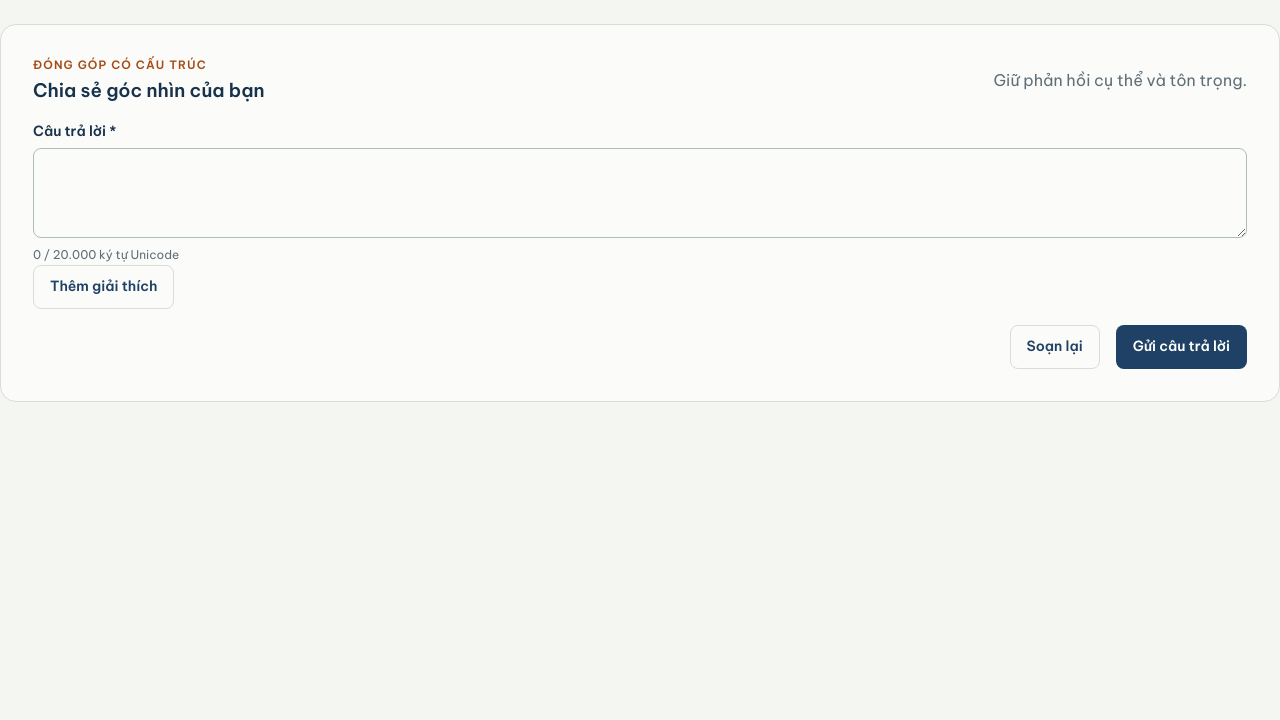
Scenario: compact structured editor › starts at three rows and preserves an optional explanation when collapsed
Check: the field labelled "Giải thích (tuỳ chọn)" is not shown
Click the button "Thêm giải thích": click(104, 287) 33,265 -> 174,309
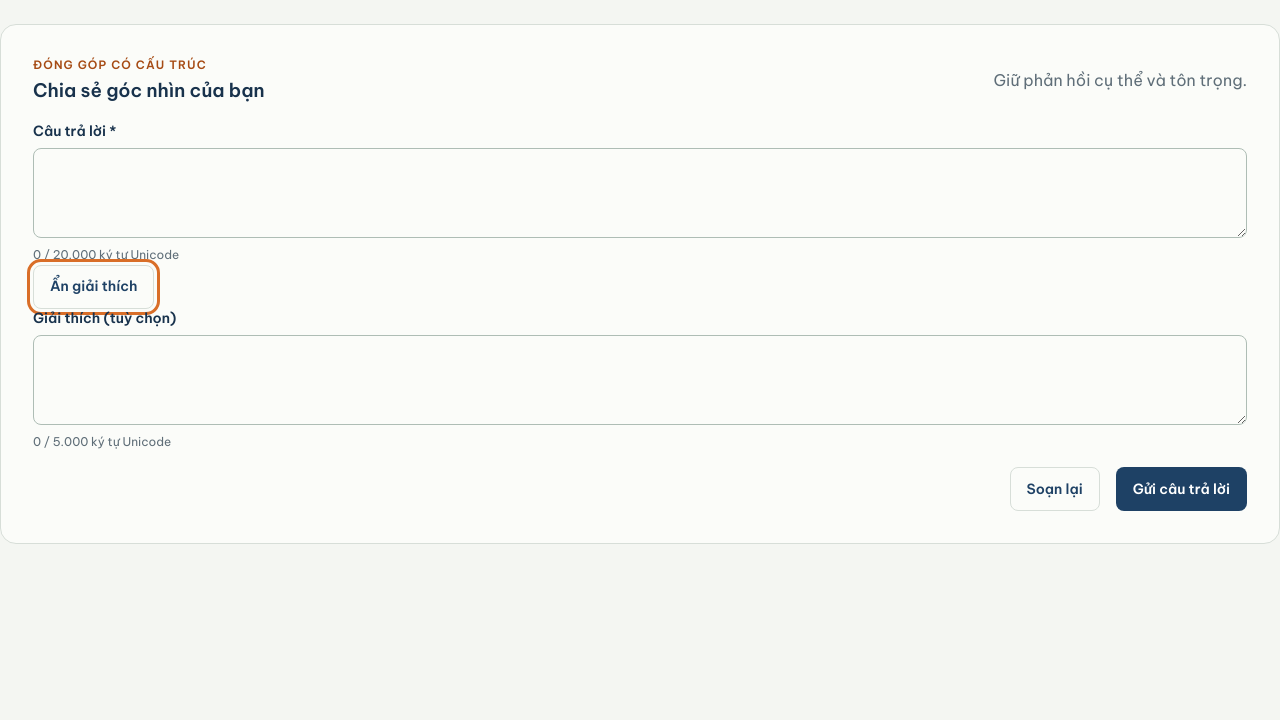
In the text box labelled "Giải thích (tuỳ chọn)": (640, 380) 33,335 -> 1247,425, type "A reason"
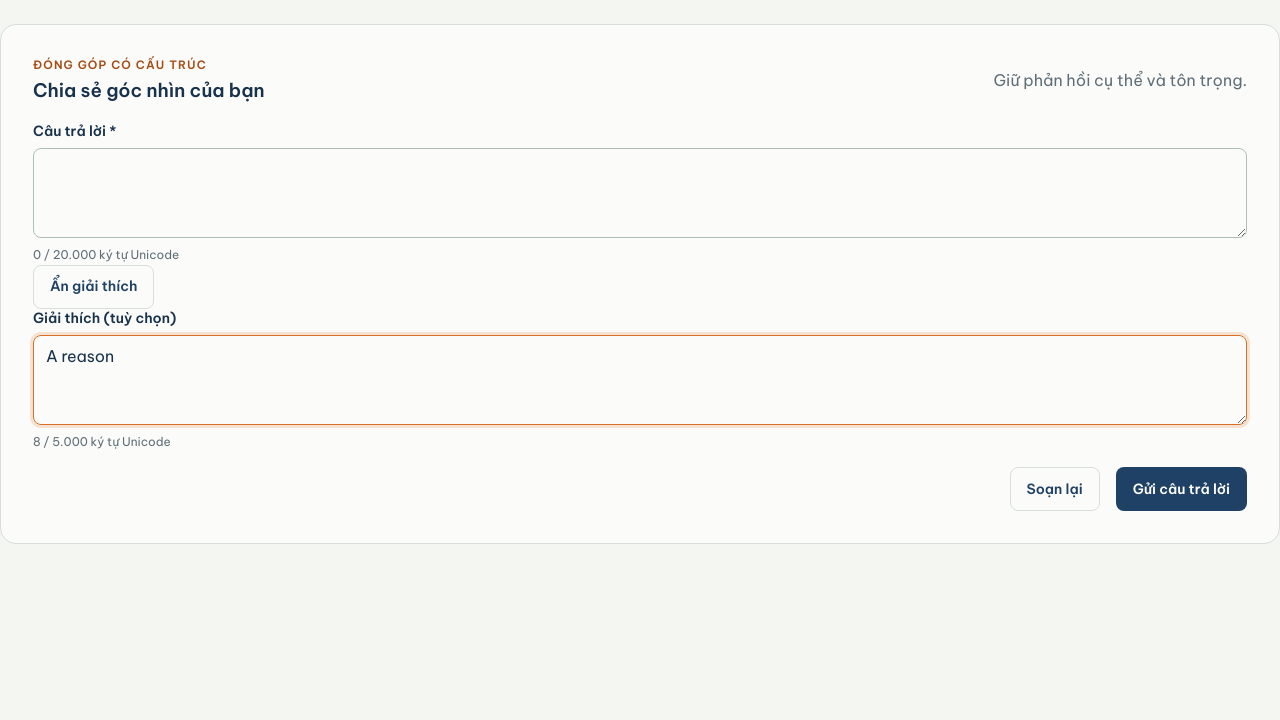
Click the button "Ẩn giải thích": click(94, 287) 33,265 -> 154,309
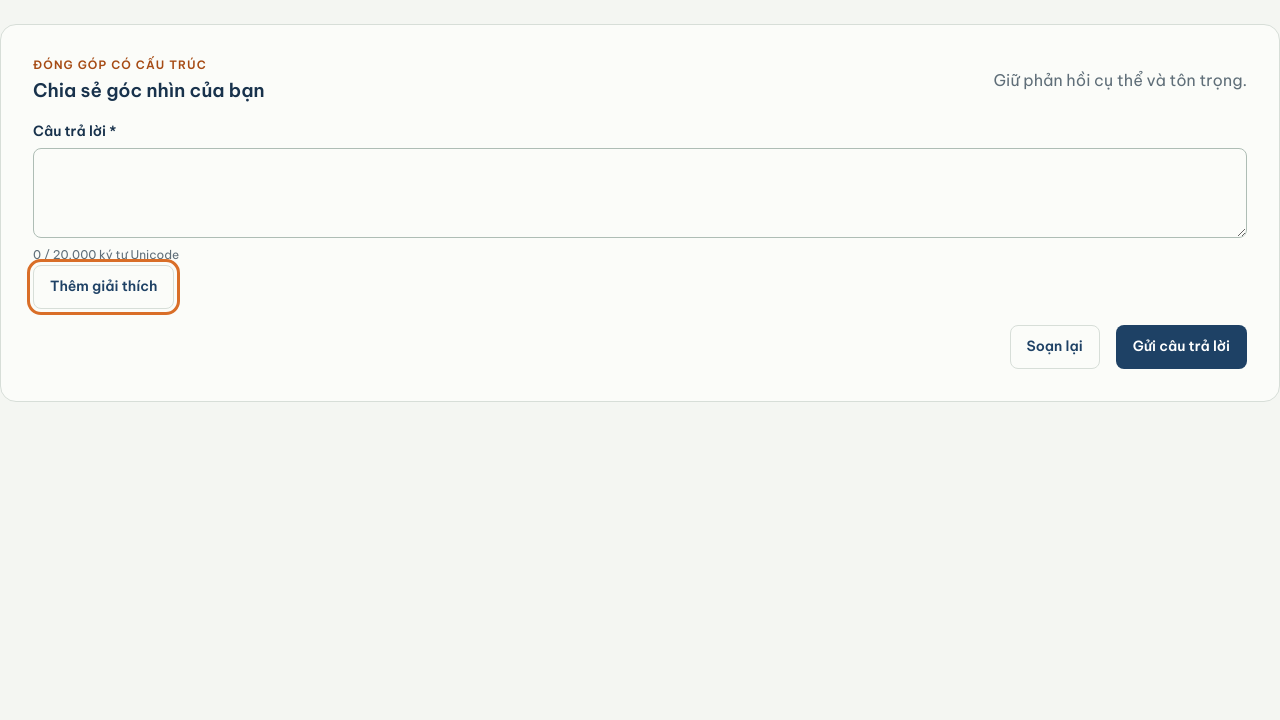
Click the button "Thêm giải thích": click(104, 287) 33,265 -> 174,309
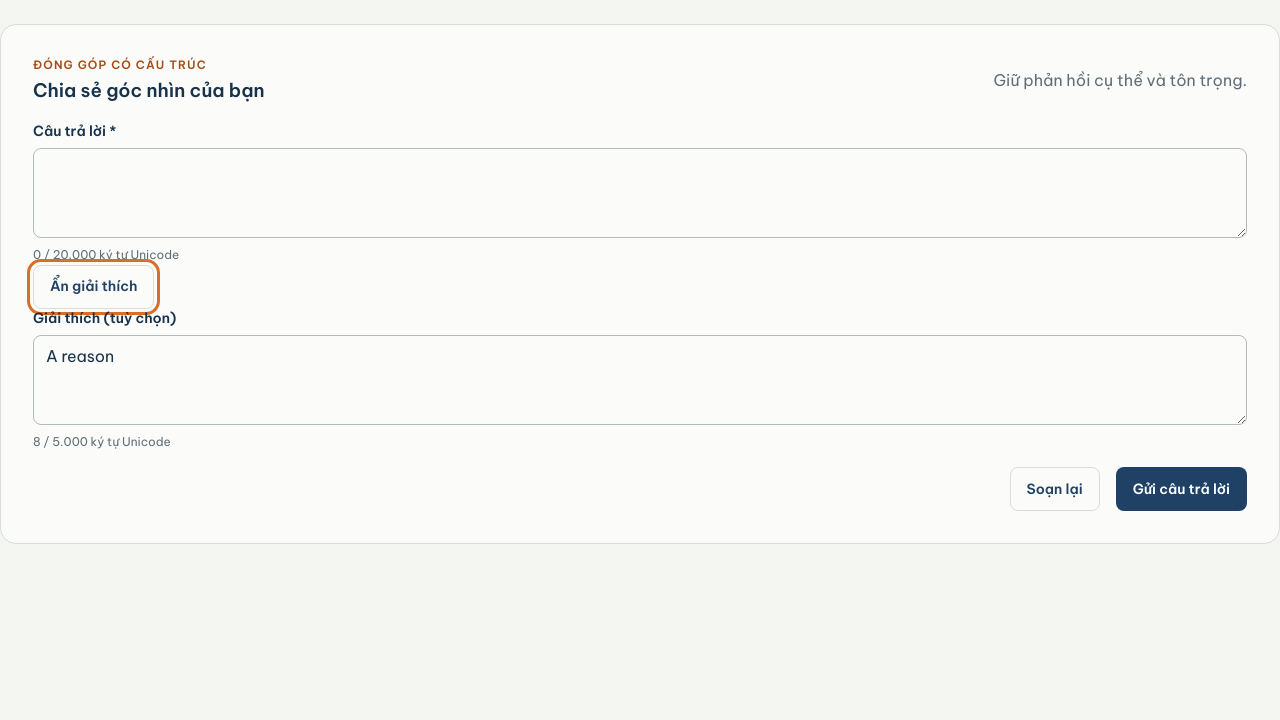
Check: the text box labelled "Giải thích (tuỳ chọn)" holds "A reason", box 33,335 -> 1247,425
